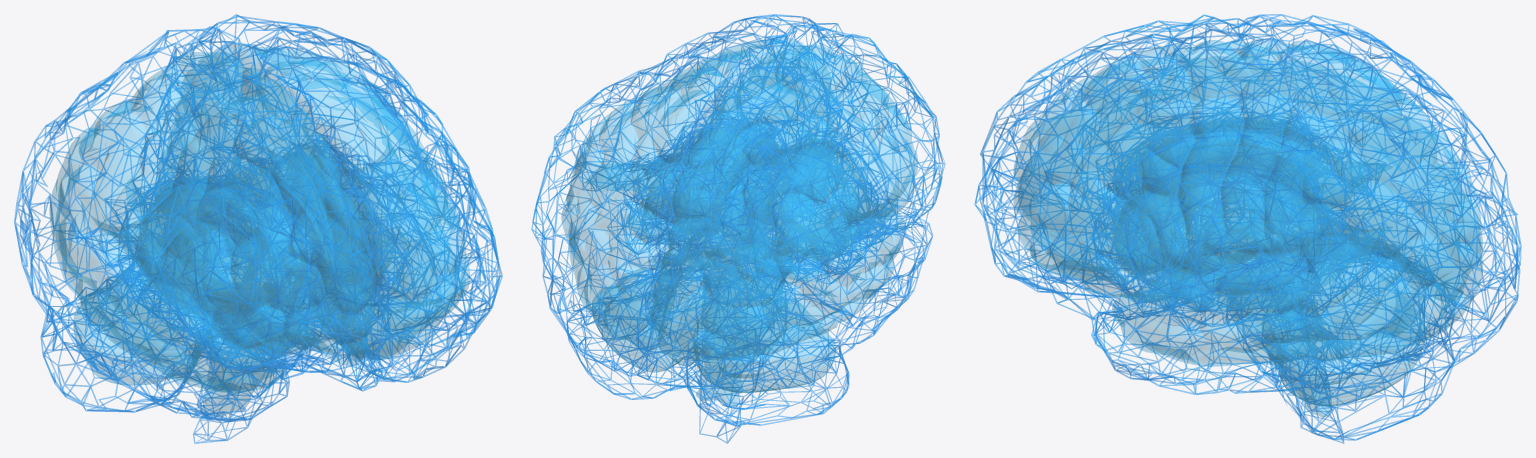
Rendered from brain.glb.
3 renders of one model, left to right at view 1: azimuth 30°, elevation 25°; view 2: azimuth 150°, elevation 25°; view 3: azimuth 270°, elevation 25°, orthographic. The views are drawn at different scales.
Visible parts, largest first — view 1: Brain_Model, Brain_Model001; view 2: Brain_Model, Brain_Model001; view 3: Brain_Model, Brain_Model001.
Boxes of the visible parts, box(x1,y1,x2,y2) form: Brain_Model: box(49, 42, 469, 416); Brain_Model001: box(14, 14, 502, 443); Brain_Model: box(561, 38, 917, 406); Brain_Model001: box(531, 14, 945, 443); Brain_Model: box(1013, 40, 1482, 417); Brain_Model001: box(974, 14, 1521, 443).
Bounding box in the file's own units: 1.06 × 1.11 × 1.32.
2 materials, 1 textured.
